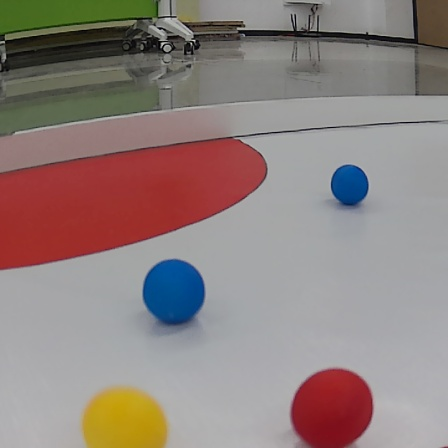blue: (136, 256, 213, 326), (327, 160, 372, 209)
red: (289, 367, 374, 447)
red_base: (0, 131, 269, 271)
yellow: (79, 384, 171, 447)
